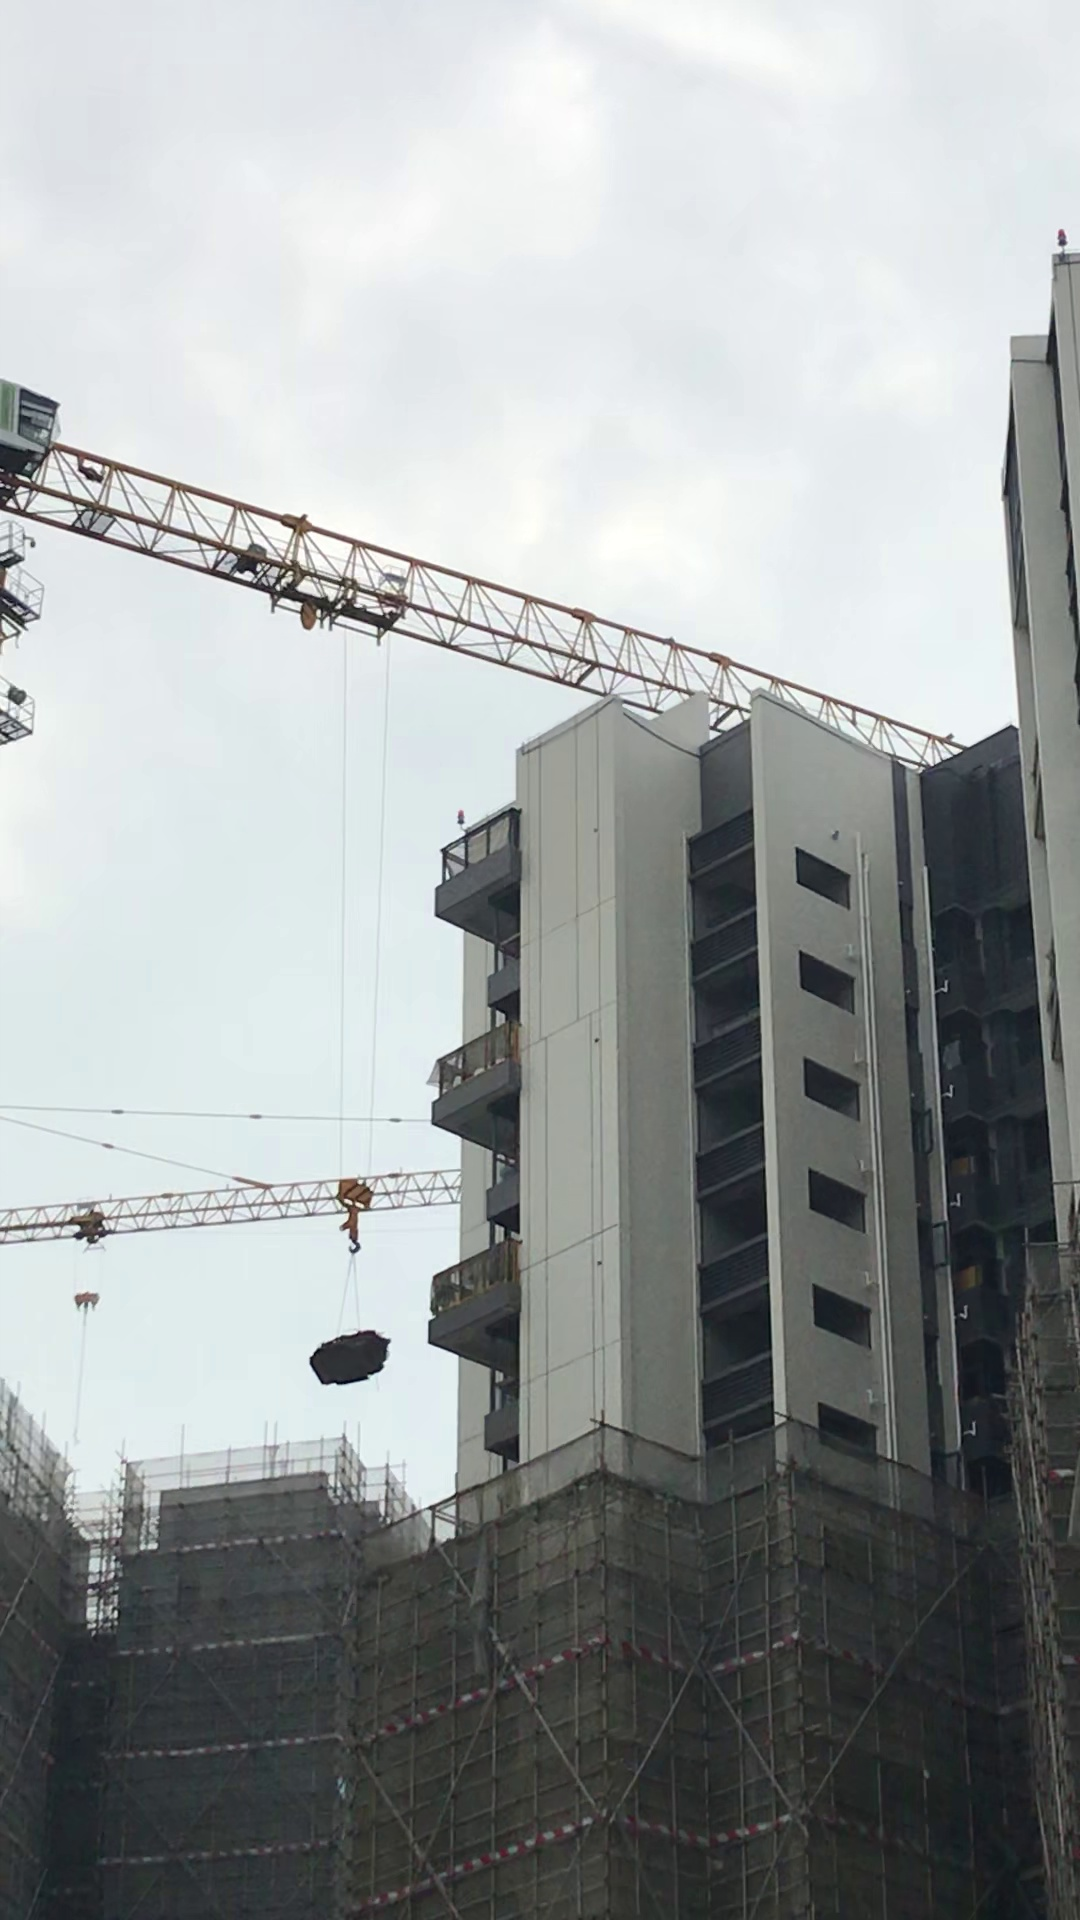hook: (342, 1163, 382, 1265), (69, 1284, 104, 1317)
